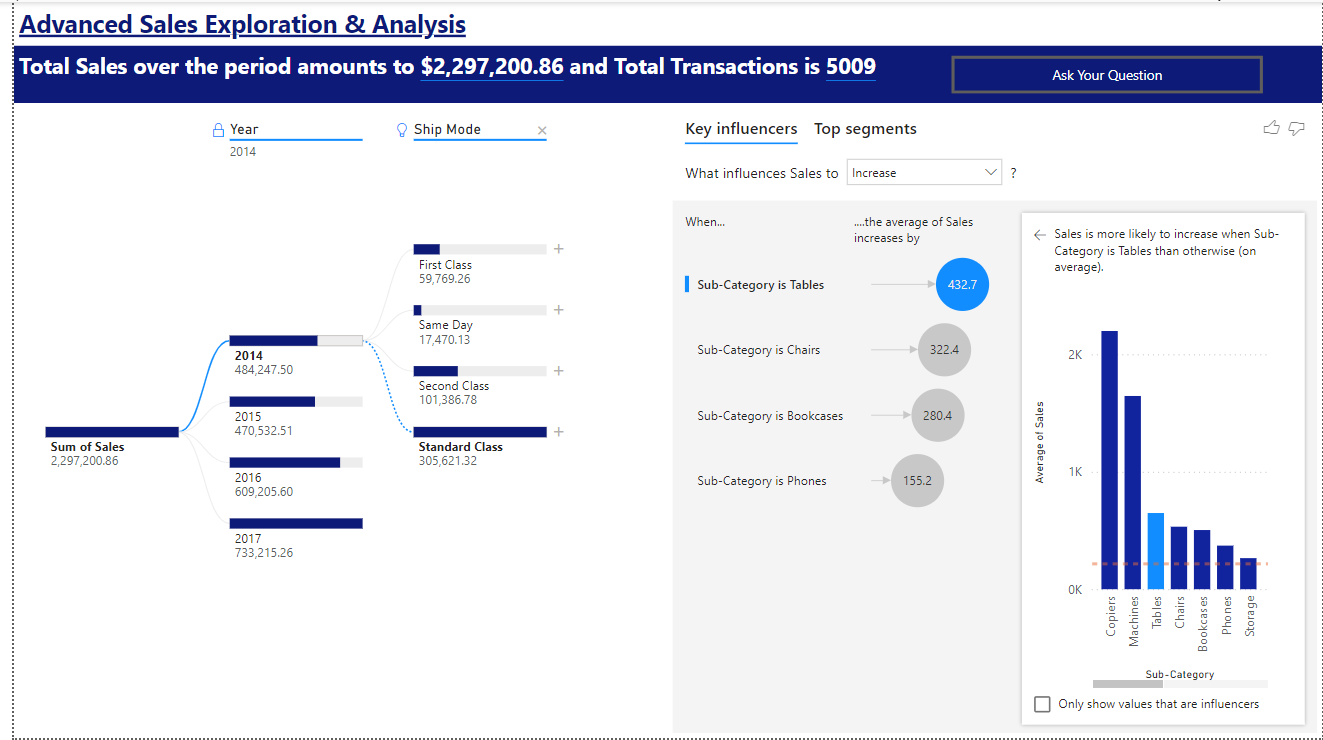

Layout of this report page (visuals, bound fields, positions):
{"tool":"powerbi","page":{"name":"Advanced Analysis","canvas":[1280,720],"ordinal":2},"visuals":[{"type":"textbox","box":[0,0,484.4,42.5],"z":0},{"type":"textbox","box":[0,42.5,1280.3,56.3],"z":1000},{"type":"decompositionTreeVisual","fields":{"Analyze":["Sum(Orders.Sales)"],"ExplainBy":["Orders.Order Date.Variation.Date Hierarchy.Year","Orders.Ship Mode","Orders.Category","Orders.Region","Orders.City","Orders.State","Orders.Sub-Category"]},"box":[1.4,98.8,639.5,621.6],"z":2000},{"type":"keyDriversVisual","fields":{"Target":["Orders.Sales"],"ExplainBy":["Orders.Sub-Category"]},"box":[640,99,640,621],"z":3000},{"type":"actionButton","title":"Q&A Key","box":[916.6,52.1,304.6,37],"z":4000}]}

Visuals, with their boxes in screenshot pixels (x1, y1, x2, y2), scaled from the page's 1280x720 canvas onto the 1323x740 screenshot:
textbox: [0, 0, 501, 44]
textbox: [0, 44, 1322, 102]
decompositionTreeVisual - Sum(Orders.Sales) x Orders.Order Date.Variation.Date Hierarchy.Year: [1, 102, 662, 739]
keyDriversVisual - Orders.Sales x Orders.Sub-Category: [662, 102, 1322, 739]
"Q&A Key" actionButton: [947, 54, 1262, 92]
